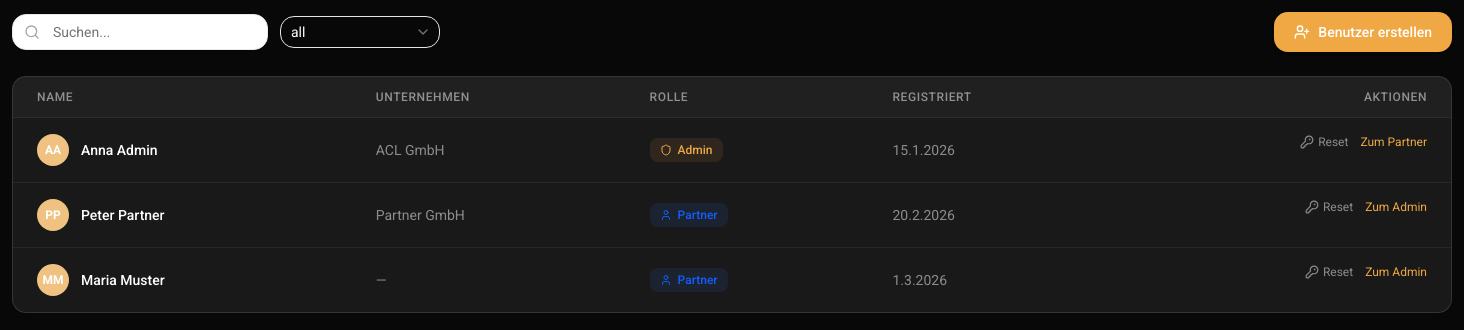
Test case: AdminUsersList › Suche und Filter › zeigt Meldung wenn Suche keine Treffer hat
The image size is (1464, 330).
In the field with placeholder "Suchen...": (140, 32) [12,14,268,50], type "xxxxxx"
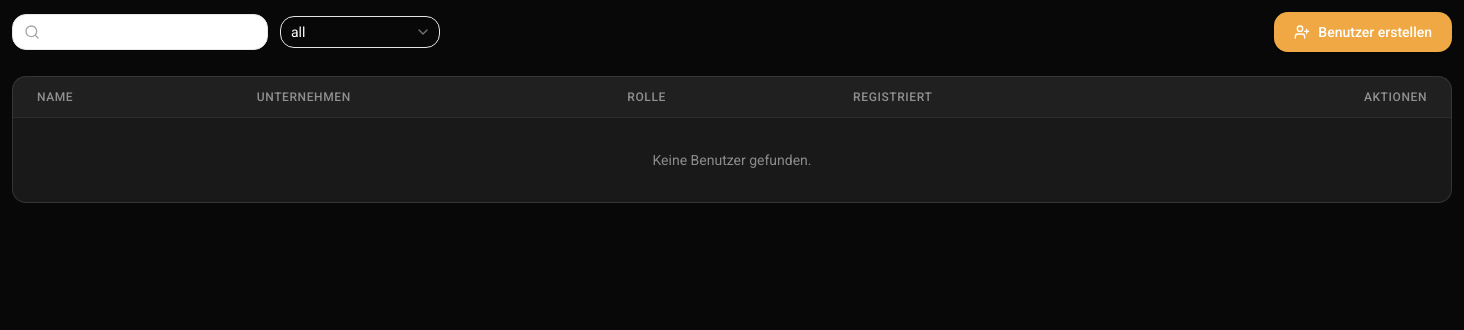
Now the text "Keine Benutzer gefunden." is shown, box [13,118,1451,202]
